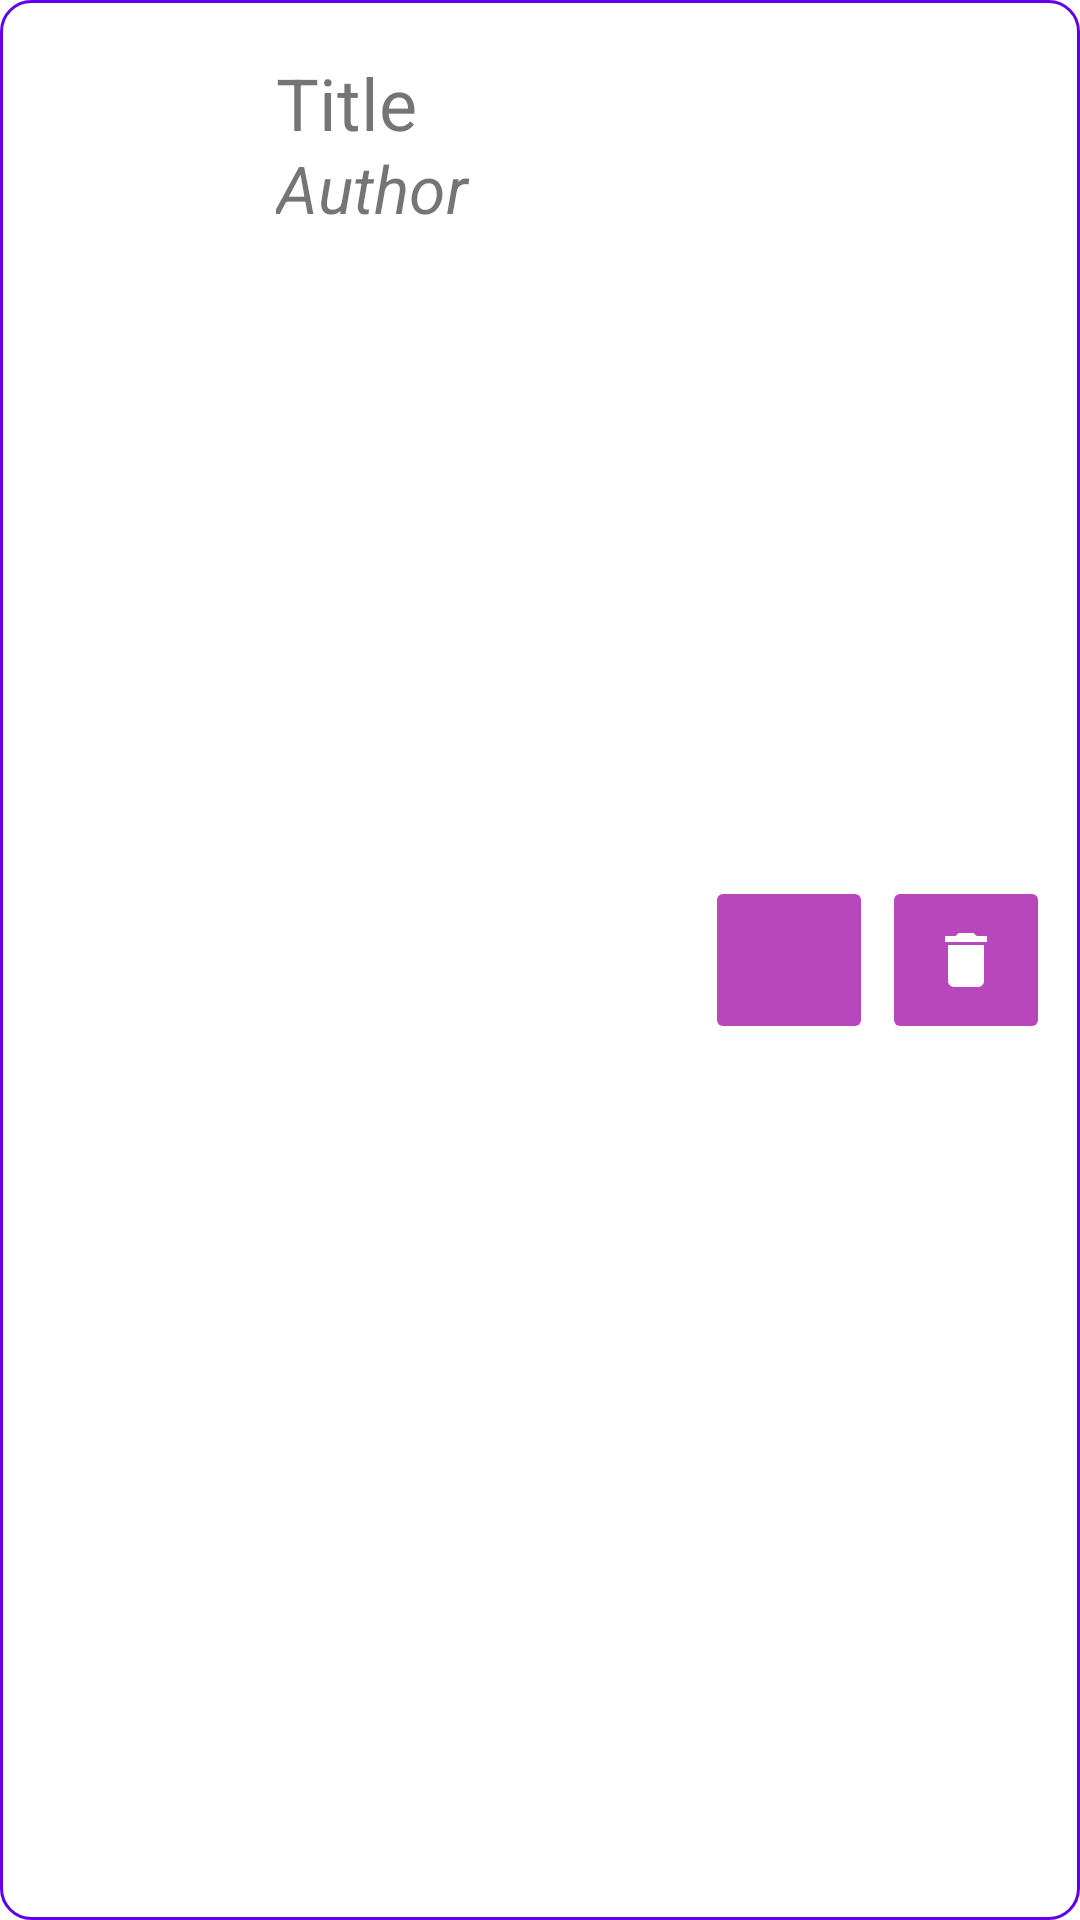

Where icons sit on this 1080 × 1920 app screen, as (x1, y1, x2, y2):
delete: (894, 894, 1038, 1026)
